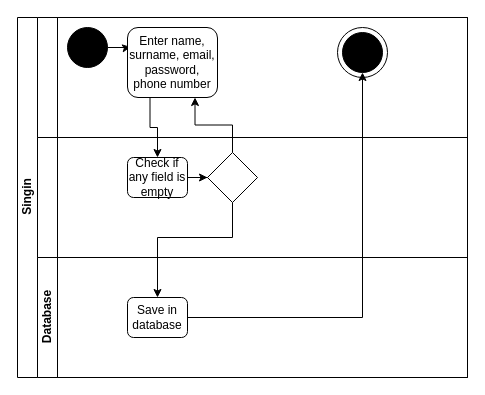
Image size: 485x395. Some labels were removed from this diagram. The box of each missing label's shape, as (x1, y1, x2, y2) in pixels:
Server: (36, 136, 468, 258)
User: (36, 16, 468, 138)
